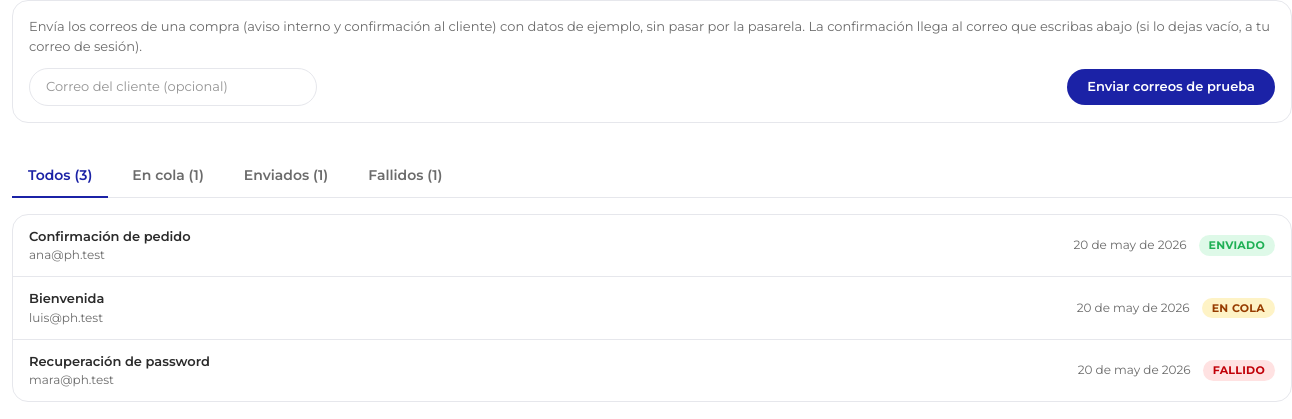
Scenario: EmailOutboxViewer › filtra por tab `sent` y solo muestra los emails enviados
The width and height of the screenshot is (1292, 419).
Click the tab "Enviados (1)" at (286,176), box [228,154,344,198]
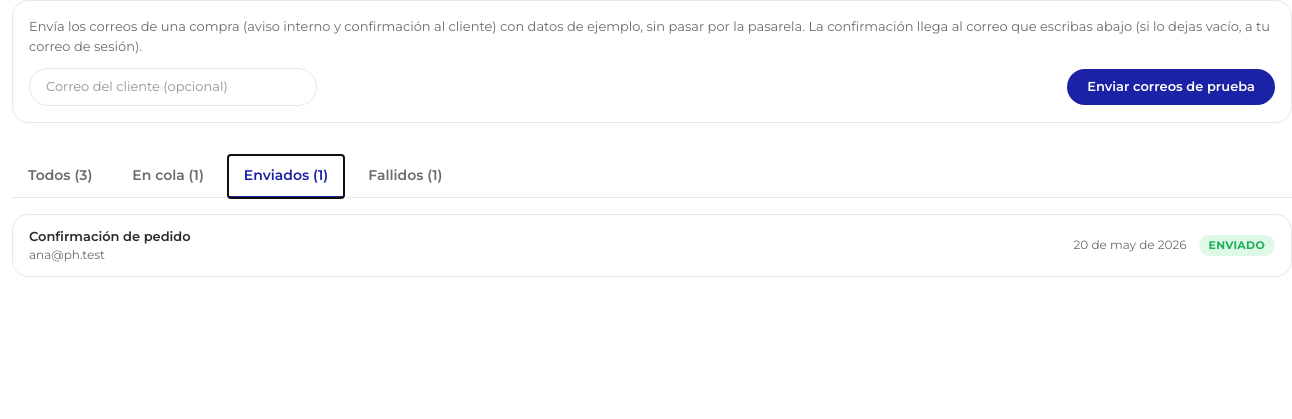
Expected: the text "Confirmación de pedido" is shown, [29,226,191,246]
Expected: the text "Bienvenida" is gone
Expected: the number of list items with test id "outbox-row" is 1, [29,228,1275,262]
